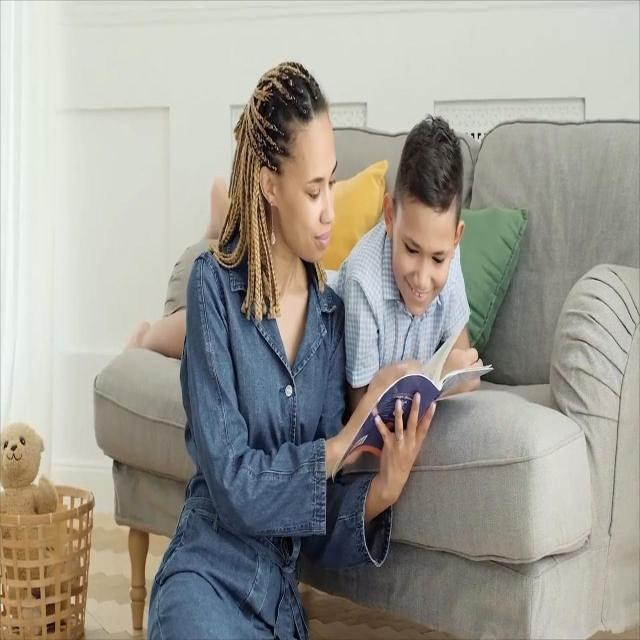person: (146, 60, 438, 639), (327, 113, 481, 423)
